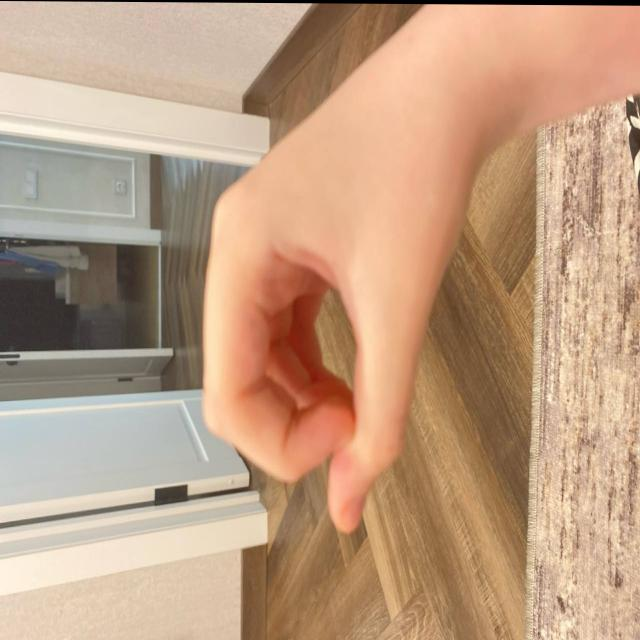e: (190, 139, 440, 538)
